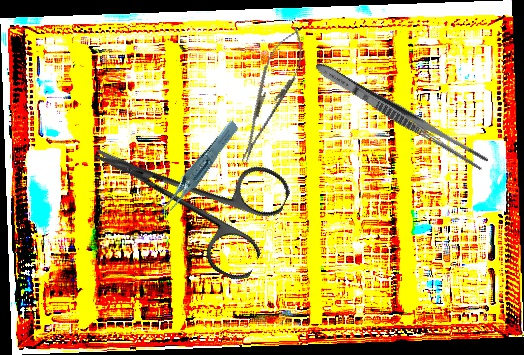Dressing Forceps: (311, 58, 491, 172)
Iris Scissors: (72, 97, 296, 286)
Needle Holder: (227, 21, 314, 169)
Tissue Forceps: (140, 119, 254, 217)
